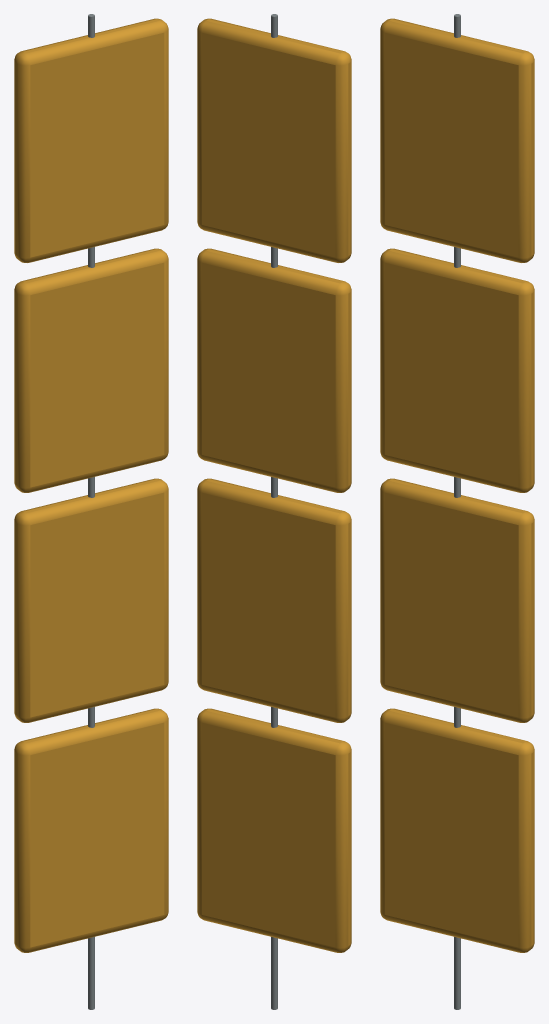
The model's file is day_snack.glb.
3 views of the same model, side by side, from view 1: azimuth 30°, elevation 25°; view 2: azimuth 150°, elevation 25°; view 3: azimuth 330°, elevation 25° (orthographic).
Visible parts, largest first — view 1: day_snack; view 2: day_snack; view 3: day_snack.
Boxes of the visible parts, left/top/right/bottom form: day_snack: left=14, top=14, right=168, bottom=1009; day_snack: left=197, top=14, right=351, bottom=1009; day_snack: left=380, top=14, right=534, bottom=1009.
Bounding box in the file's own units: 0.15 × 0.95 × 0.02.
